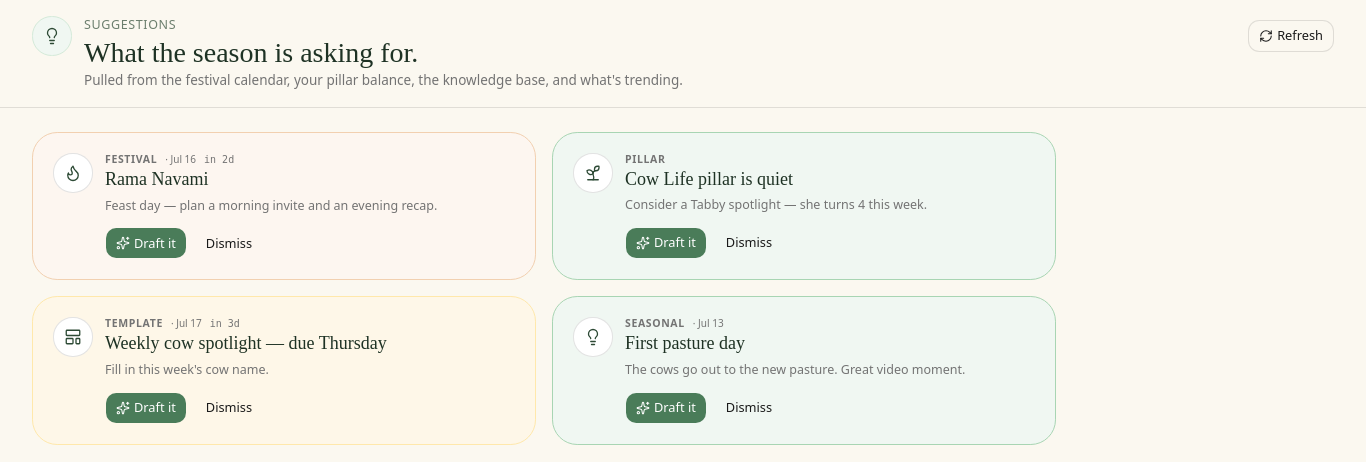
Test: SuggestionsPage › dismisses for good on success and toasts without undo
This screenshot has width=1366, height=462.
expect the heading "Cow Life pillar is quiet" is shown: met, box [625,169,793,189]
Click the button "Dismiss" below "Cow Life pillar is quiet": (749,243) [715,227,783,259]
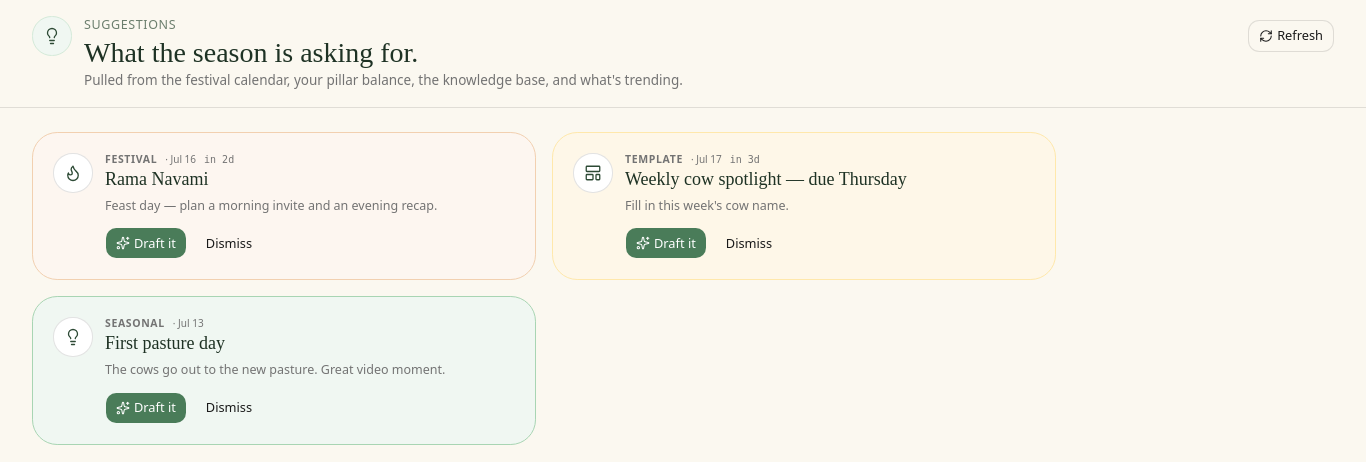
expect the heading "Cow Life pillar is quiet" is gone: met
